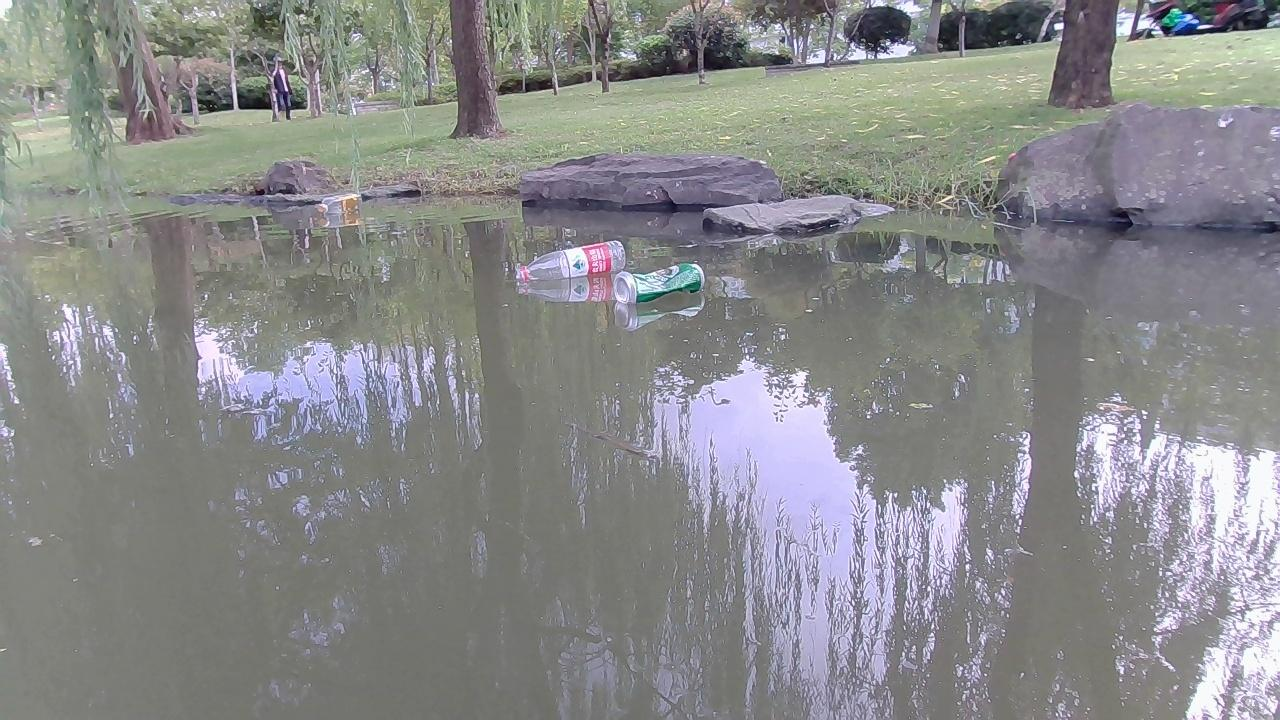bottle: (511, 240, 622, 283), (613, 262, 706, 302), (316, 191, 361, 215)
